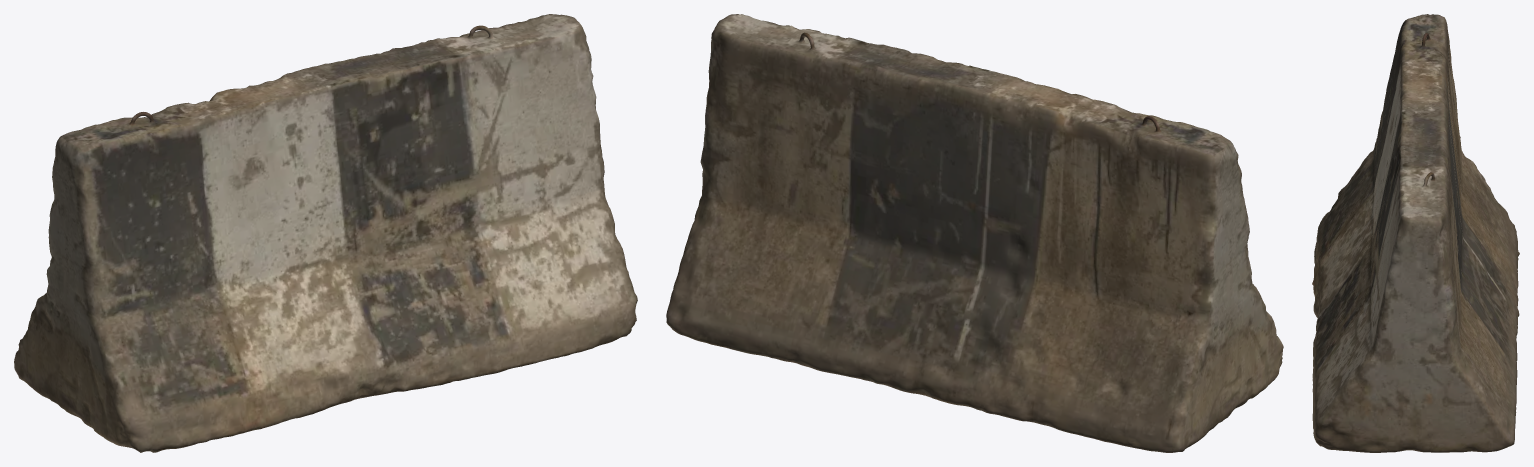
The model's file is concrete_road_barrier.glb.
3 renders of one model, left to right at view 1: azimuth 30°, elevation 25°; view 2: azimuth 150°, elevation 25°; view 3: azimuth 270°, elevation 25°, orthographic. The views are drawn at different scales.
Parts seen in each view (by area): view 1: concrete_road_barrier; view 2: concrete_road_barrier; view 3: concrete_road_barrier.
Part boxes in pixels (x1=…): concrete_road_barrier: x1=14, y1=14, x2=637, y2=452; concrete_road_barrier: x1=666, y1=14, x2=1283, y2=452; concrete_road_barrier: x1=1312, y1=14, x2=1519, y2=452.
Bounding box in the file's own units: 1.55 × 0.8311 × 0.6388.
Materials: 1 (1 with a texture image).
